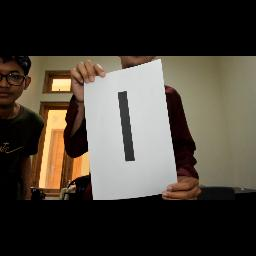i: (108, 88, 146, 168)
